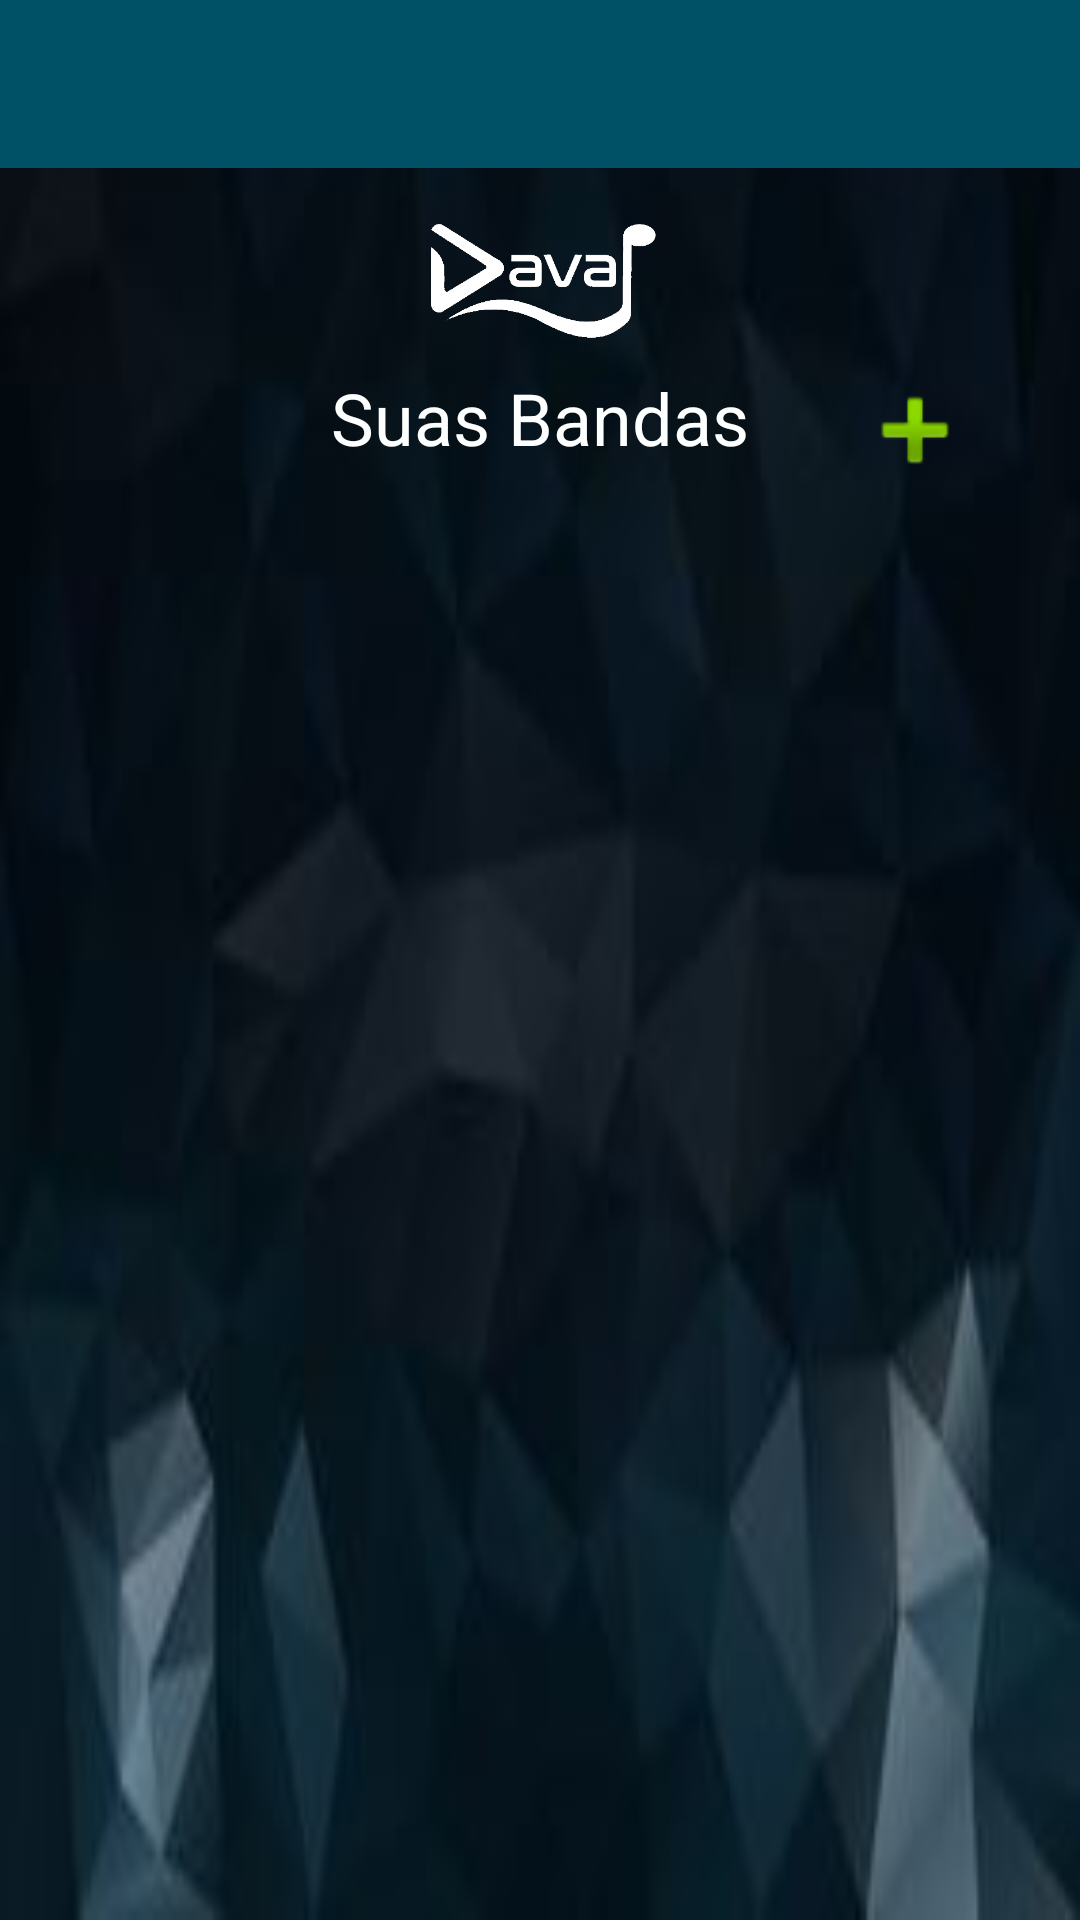

Icons on this 1080w x 1920h Android screen, each with its box as box=[x1, y1, x2, y2]:
add: box=[881, 397, 949, 464]
